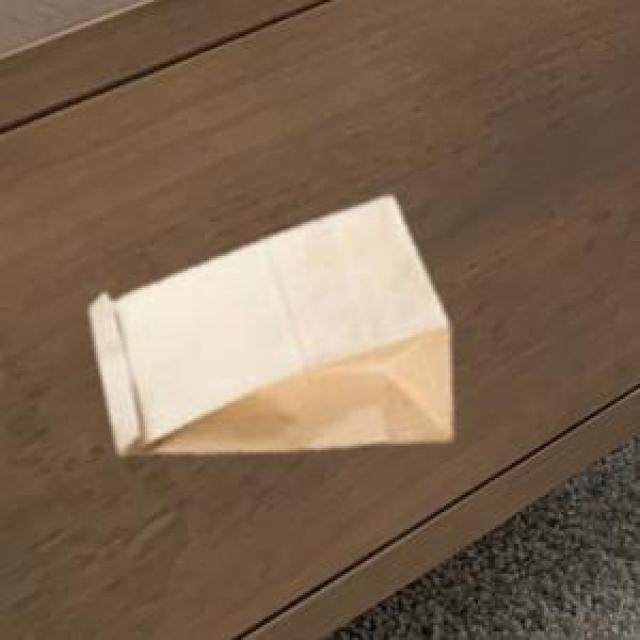paper: (88, 194, 448, 450)
